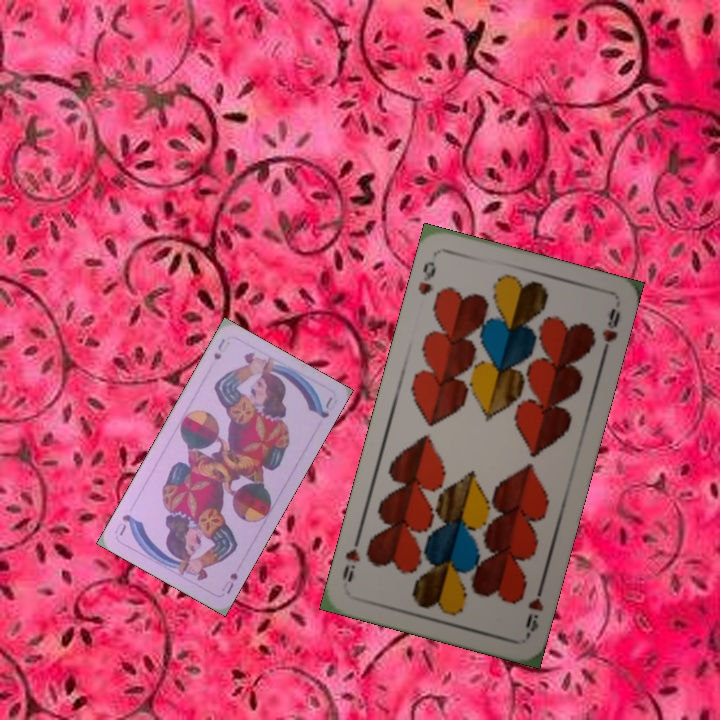H9: (521, 580, 546, 639), (413, 257, 439, 298)
SU: (217, 568, 240, 596), (209, 334, 227, 362)
